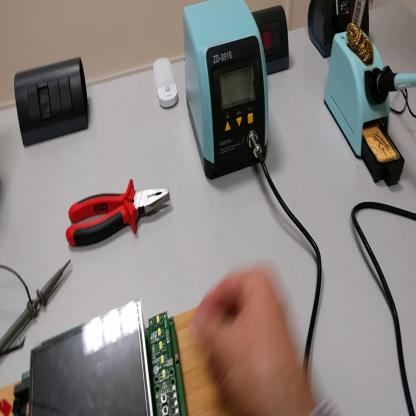hand: (191, 259, 323, 415)
low voltage board: (1, 300, 189, 416)
oscilloscope probe tip: (3, 253, 74, 354)
pliers: (65, 174, 171, 251)
socket: (309, 1, 372, 57), (253, 5, 291, 74)
welder base: (324, 25, 416, 189)
welder probe tip: (380, 61, 416, 97)
welder station: (184, 2, 269, 180)
